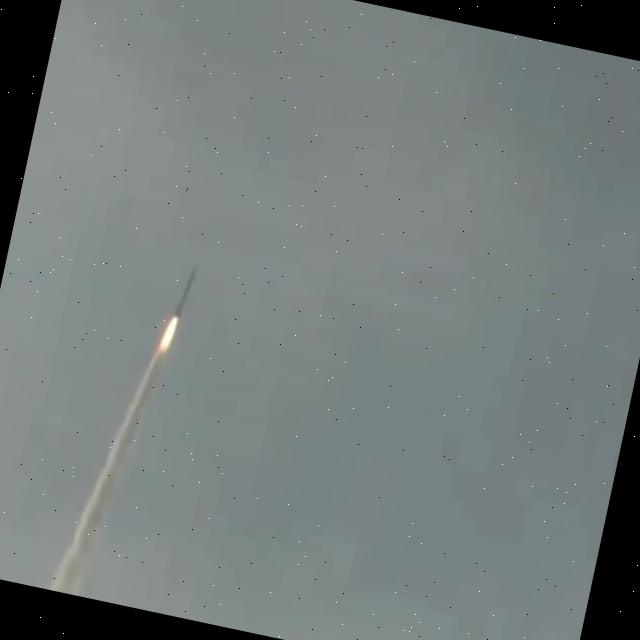smoke_trail_with_rocket: (45, 270, 195, 594)
